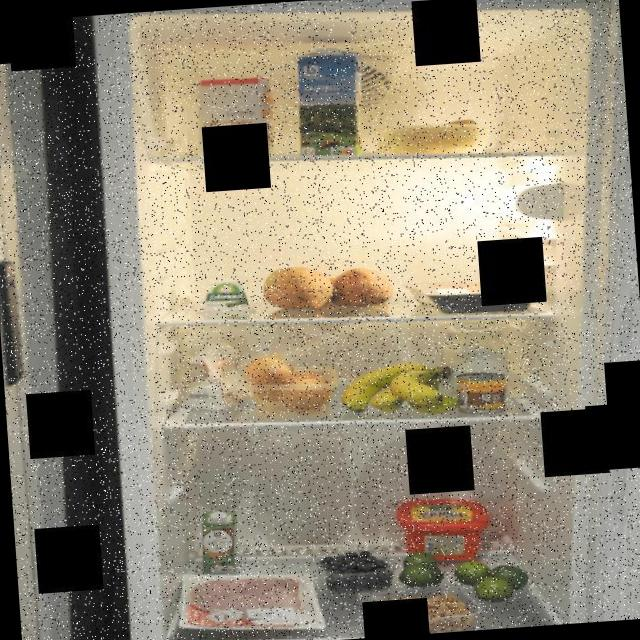Carne cerdo: (174, 561, 330, 640)
Carne vacuno: (398, 270, 548, 322)
Cebolla: (240, 346, 344, 422)
Gambas/Langostinos: (365, 589, 476, 636)
Leche: (282, 38, 368, 169)
Mantequilla: (390, 492, 494, 566)
Patata: (384, 110, 494, 163)
Plátano: (338, 355, 469, 423)
